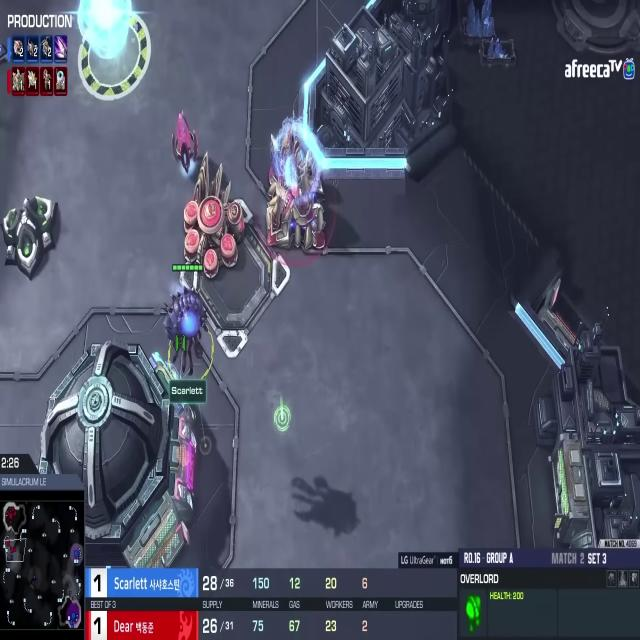overlord: (158, 275, 216, 379)
